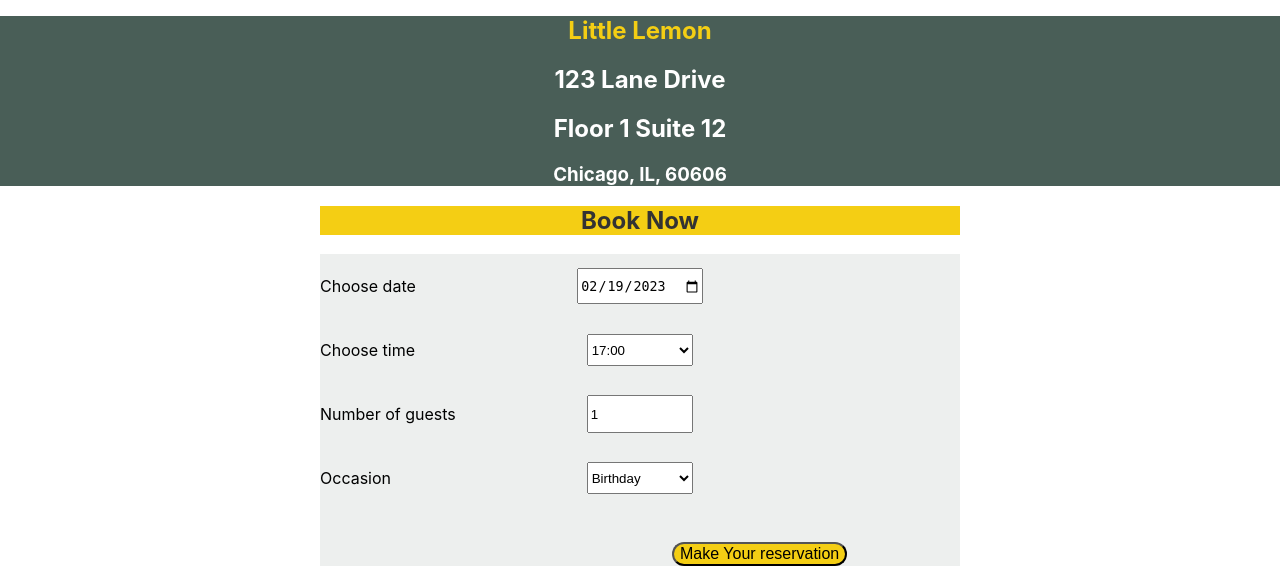
Test: make your reservation button disable when form is invalid
This screenshot has width=1280, height=583.
Type "-5" into the number field labelled "Number of guests".
click(640, 414); type("-5")  # box [587,395,693,433]
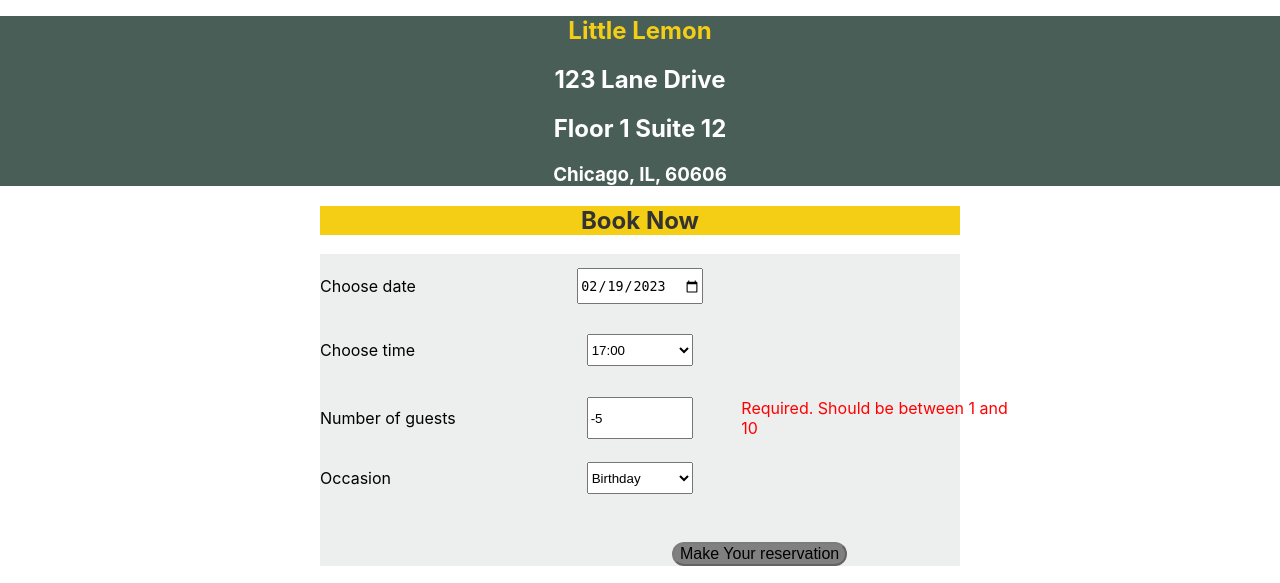
Expected: the button "Make Your reservation" is disabled, [672,542,847,566]
